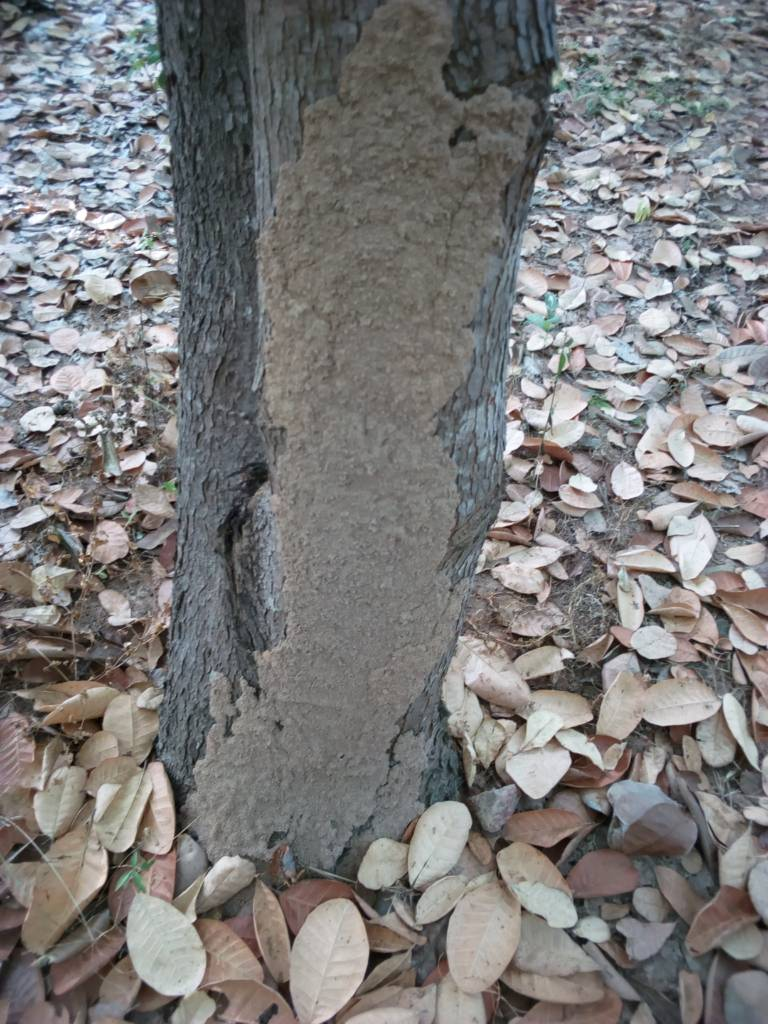Termites: (269, 2, 475, 788)
